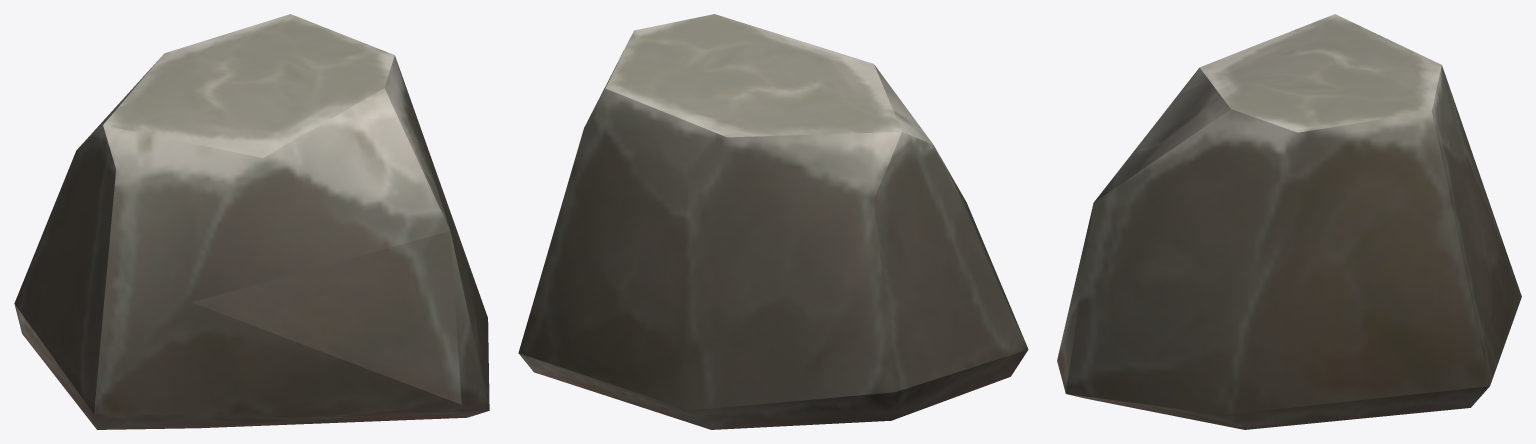
The model's file is sylized_07.obj.
3 renders of one model, left to right at view 1: azimuth 30°, elevation 25°; view 2: azimuth 150°, elevation 25°; view 3: azimuth 270°, elevation 25°, orthographic. The views are drawn at different scales.
Parts seen in each view (by area): view 1: SM_Rocks_07; view 2: SM_Rocks_07; view 3: SM_Rocks_07.
Boxes of the visible parts, left/top/right/bottom form: SM_Rocks_07: left=14, top=14, right=489, bottom=429; SM_Rocks_07: left=518, top=14, right=1028, bottom=429; SM_Rocks_07: left=1057, top=14, right=1521, bottom=429.
Bounding box in the file's own units: 5.75 × 4.1 × 5.77.
